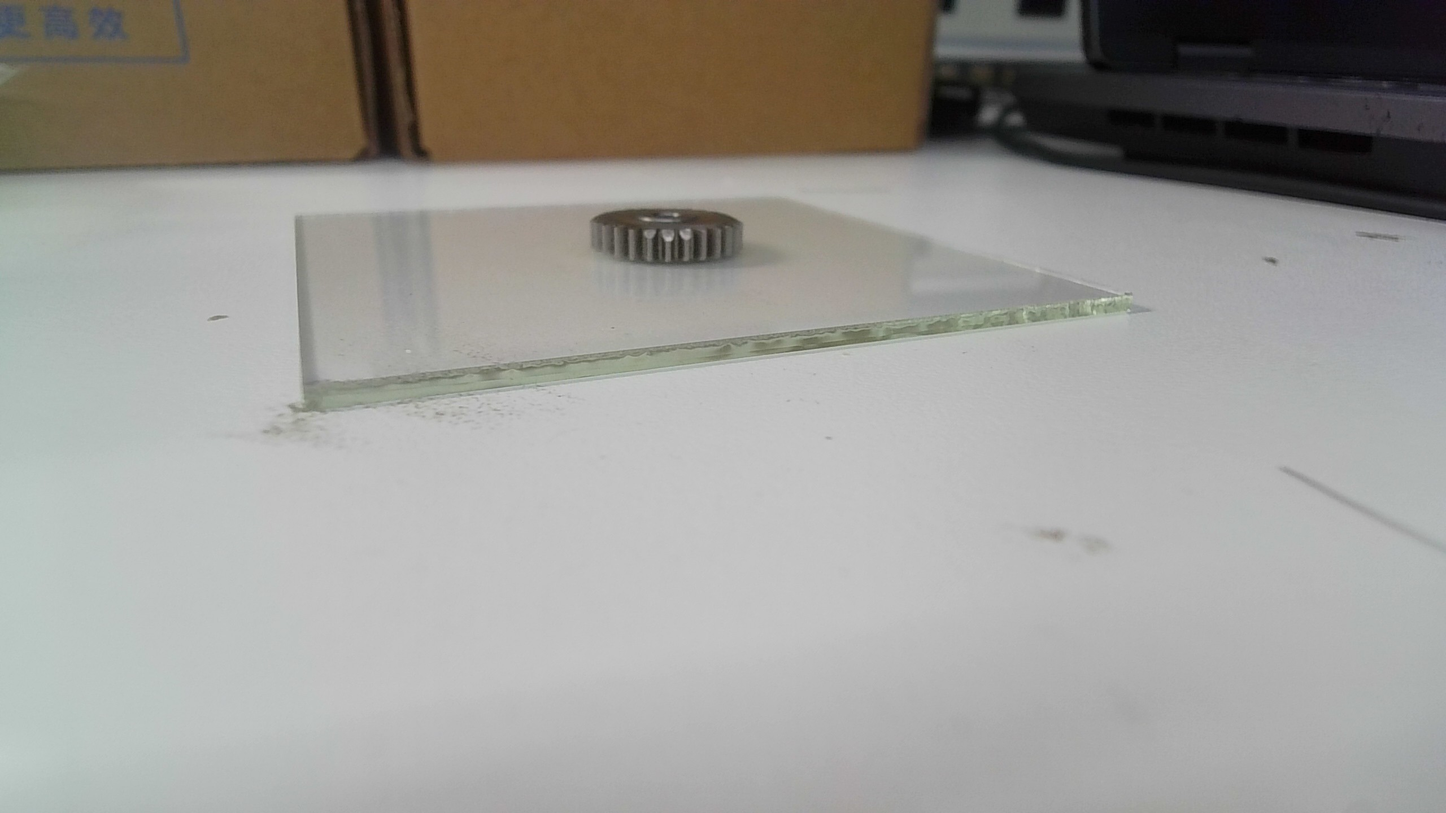gear: (583, 204, 751, 272)
